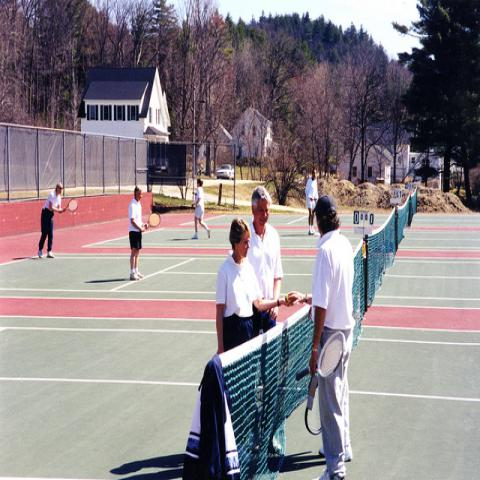car: (216, 164, 234, 180)
